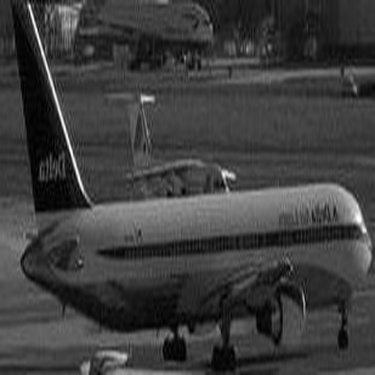airplane: (2, 6, 370, 369), (85, 88, 245, 214), (65, 1, 224, 73)
